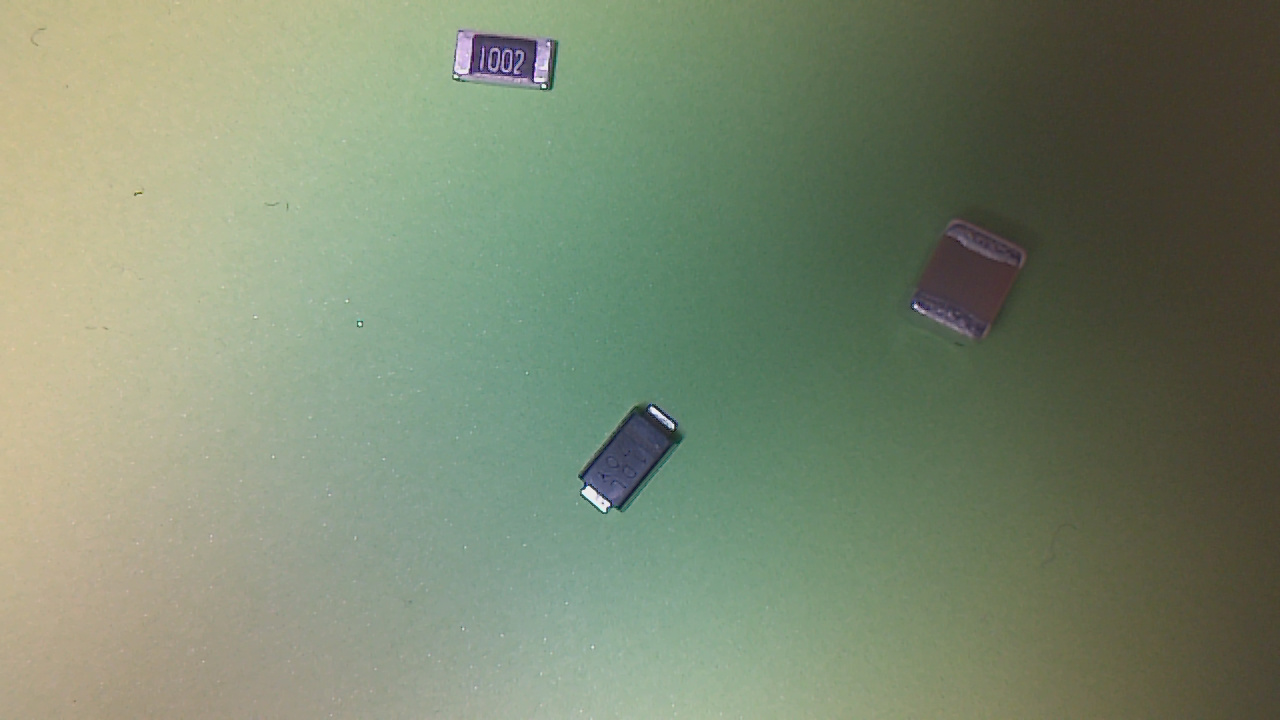Condensator: (908, 223, 1036, 352)
Diode: (583, 407, 696, 520)
Resistor: (454, 33, 565, 96)
